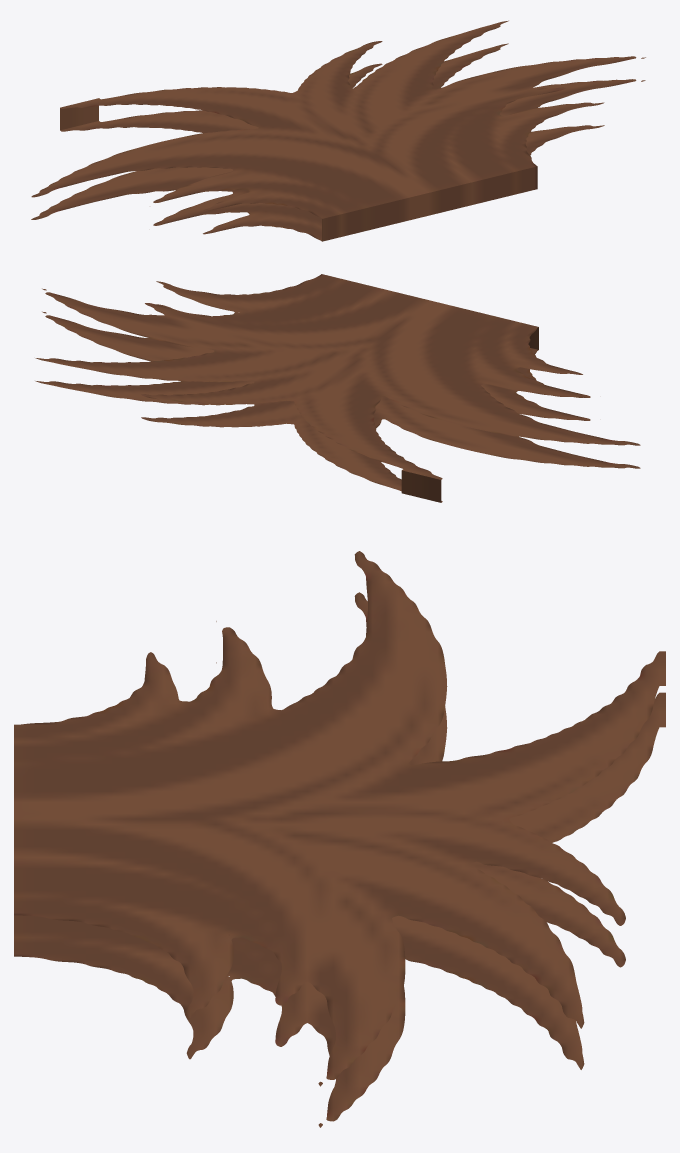
File: grass.fbx
3 views of the same model, one above another, from view 1: azimuth 30°, elevation 25°; view 2: azimuth 150°, elevation 25°; view 3: azimuth 270°, elevation 25° (orthographic). The views are drawn at different scales.
Visible parts, largest first — view 1: Grass (1); view 2: Grass (1); view 3: Grass (1).
Boxes of the visible parts, x1=… form: Grass (1): x1=31, y1=20, x2=645, y2=241; Grass (1): x1=35, y1=274, x2=640, y2=502; Grass (1): x1=14, y1=551, x2=665, y2=1127.
Bounding box in the file's own units: 204 × 7 × 100.
